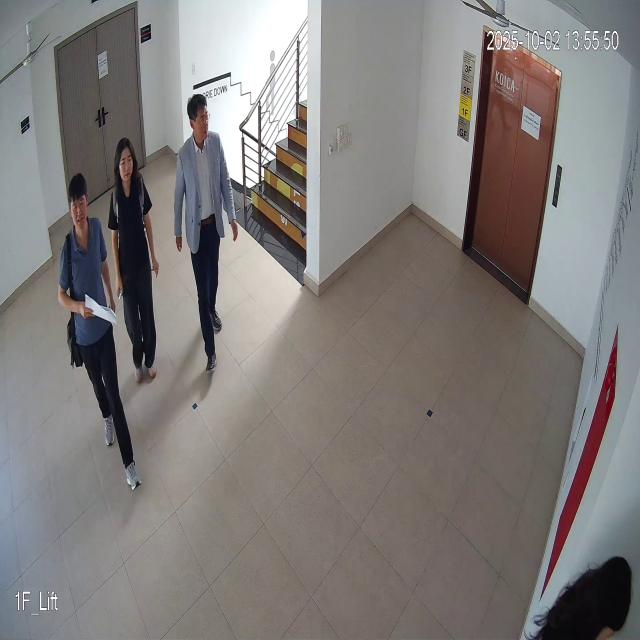face: (68, 170, 91, 238), (188, 92, 216, 143), (113, 133, 139, 187)
